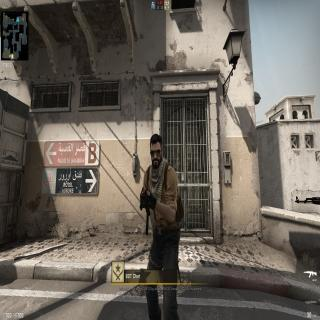T-Head: (149, 132, 164, 170)
